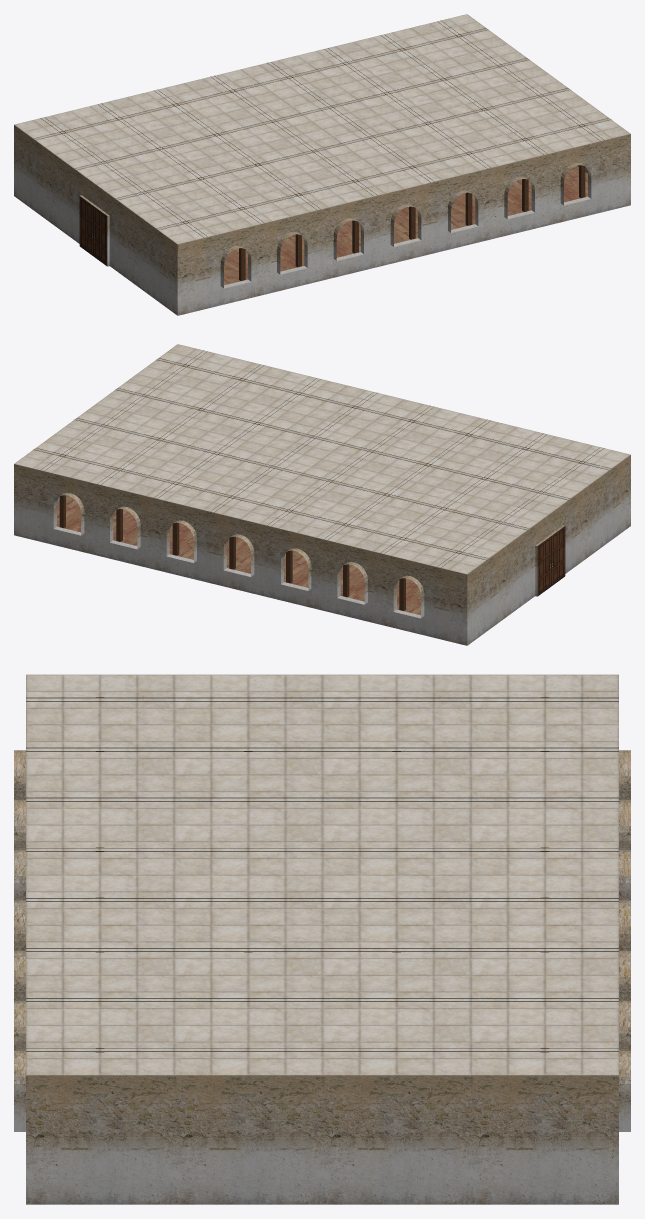
The model's file is Room2.fbx.
3 views of the same model, one above another, from view 1: azimuth 30°, elevation 25°; view 2: azimuth 150°, elevation 25°; view 3: azimuth 270°, elevation 25° (orthographic). The views are drawn at different scales.
Visible parts, largest first — view 1: Imported_OBJ_Object; view 2: Imported_OBJ_Object; view 3: Imported_OBJ_Object.
Boxes of the visible parts, bbox=[...] form: Imported_OBJ_Object: bbox=[14, 14, 630, 315]; Imported_OBJ_Object: bbox=[14, 344, 630, 645]; Imported_OBJ_Object: bbox=[14, 674, 630, 1204].
Bounding box in the file's own units: 1984 × 298 × 1285.
